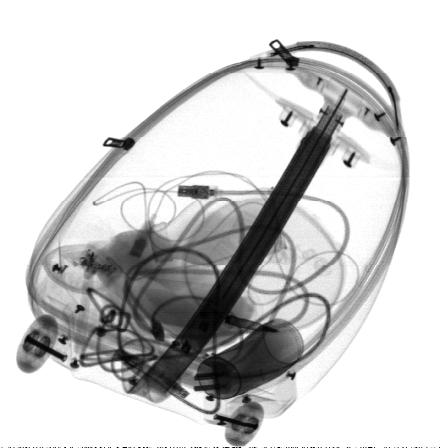Bullet: (224, 313, 281, 333)
